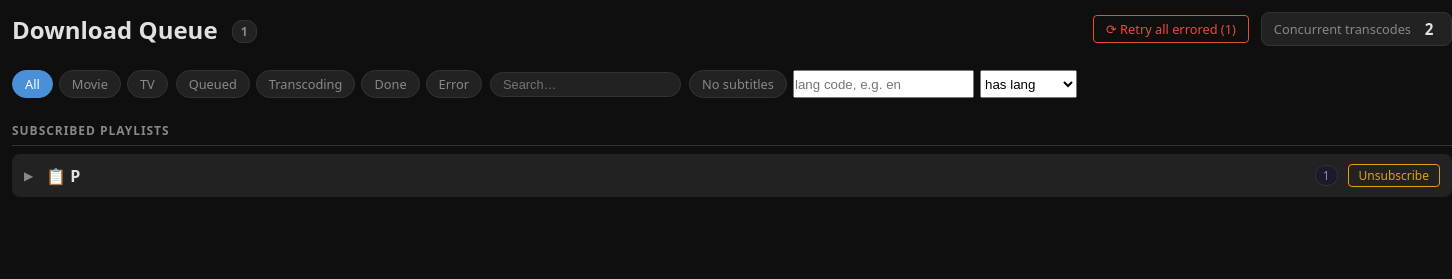
QueueView › ERROR item shows retry button inside Done section
This screenshot has width=1452, height=279.
Click the element with test id "group-header-playlist-5" at (732, 176), box 12,154 -> 1451,197
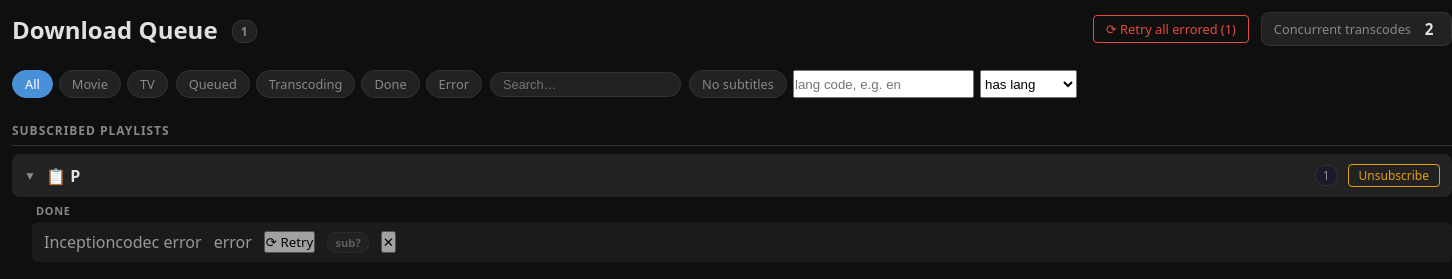
Now the button with test id "retry-btn" is shown, box 264,231 -> 315,253
